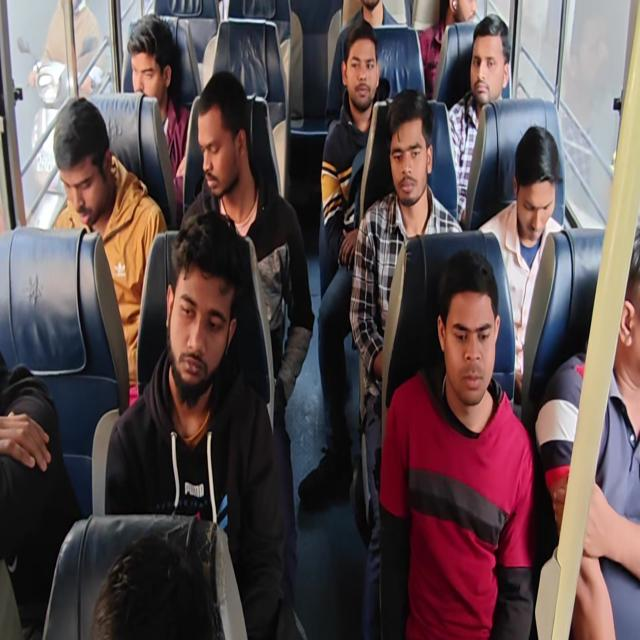person: (428, 242, 513, 440), (168, 200, 247, 412), (90, 532, 242, 640), (52, 88, 124, 223), (198, 60, 252, 207), (510, 124, 566, 255), (386, 92, 444, 213), (123, 15, 177, 120), (335, 20, 387, 123), (466, 17, 522, 112), (606, 222, 640, 378), (443, 0, 491, 53), (357, 1, 398, 49)
